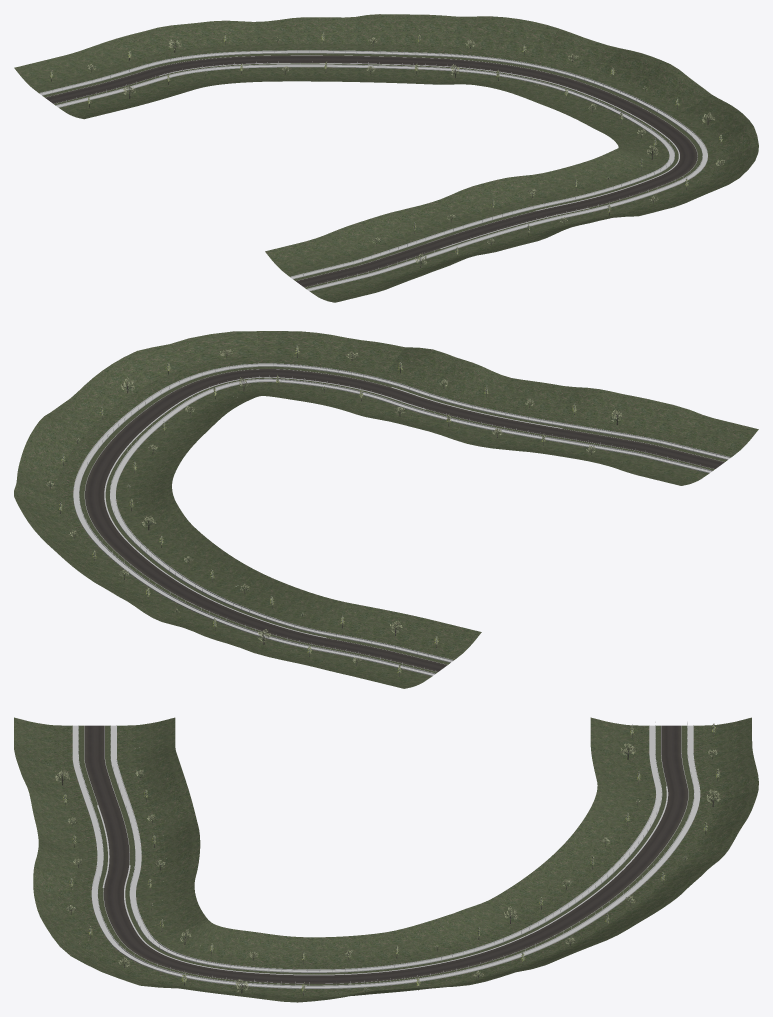
3 views of the same model, one above another, from view 1: azimuth 30°, elevation 25°; view 2: azimuth 150°, elevation 25°; view 3: azimuth 270°, elevation 25° (orthographic). The views are drawn at different scales.
Visible parts, largest first — view 1: Grass, Track, Road, Trees; view 2: Grass, Road, Track, Trees; view 3: Grass, Road, Track, Trees.
Boxes of the visible parts, x1,y1,x2,y2 form: Grass: (14, 14, 758, 302); Track: (39, 50, 707, 291); Road: (45, 55, 697, 287); Trees: (50, 32, 724, 267); Grass: (14, 331, 758, 688); Road: (85, 369, 724, 671); Track: (73, 363, 730, 676); Trees: (45, 344, 622, 676); Grass: (14, 717, 758, 1002); Road: (84, 725, 688, 983); Track: (72, 722, 700, 988); Trees: (55, 723, 720, 995).
Size of what is drawn, in the model's own units: 57581 by 2788 by 64594.
